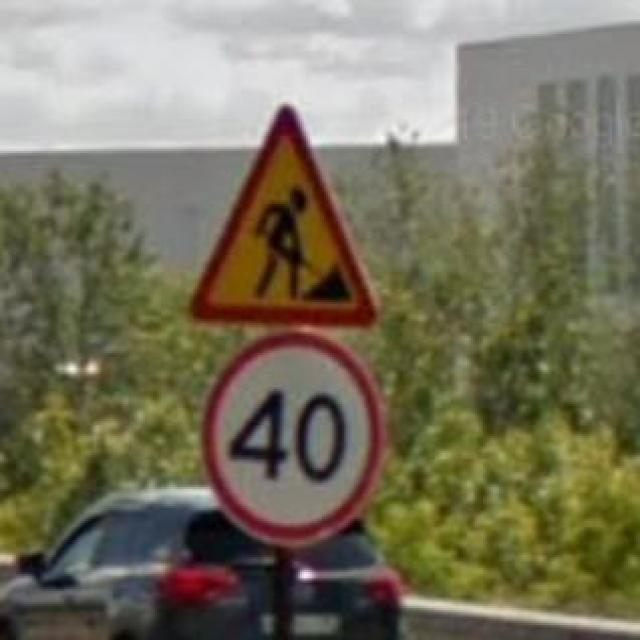Ograniczenie predkosci do 40: (200, 328, 382, 546)
